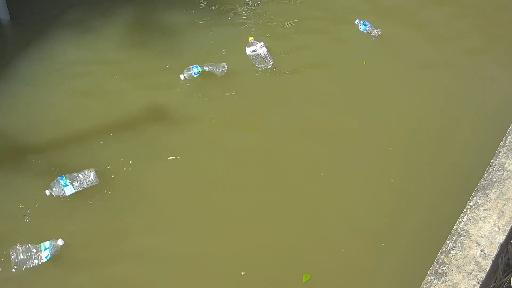plastic: (236, 24, 298, 93), (0, 232, 76, 282), (32, 155, 101, 205), (174, 49, 236, 93), (346, 11, 405, 51)
